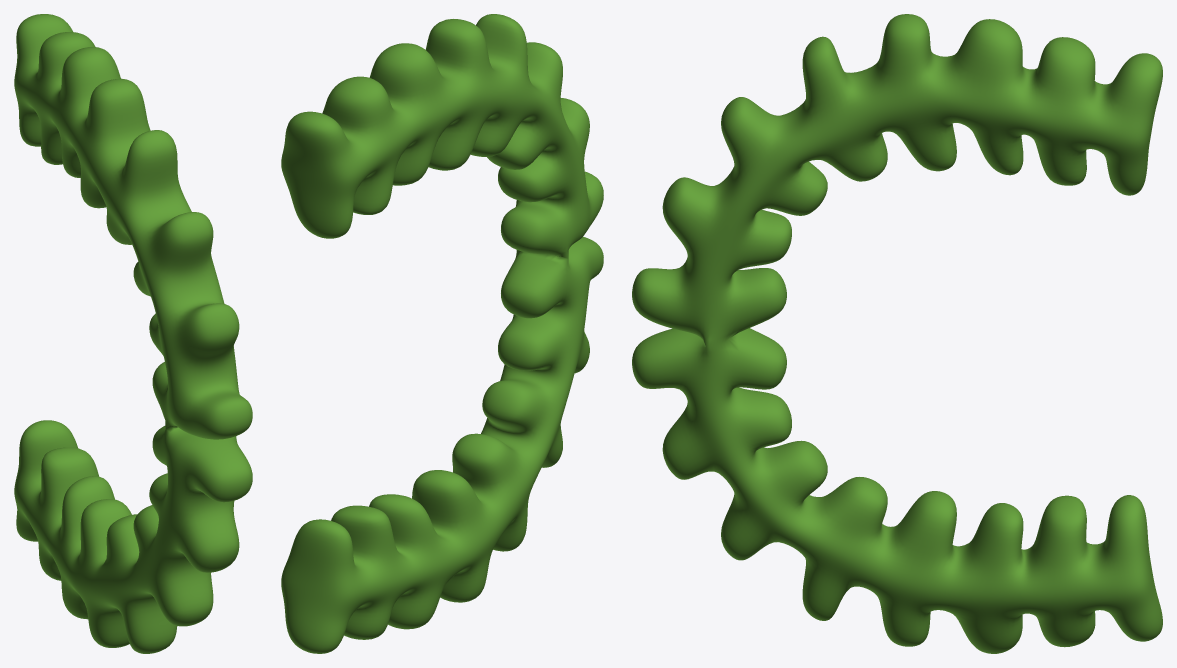
The model's file is wreath.fbx.
3 renders of one model, left to right at view 1: azimuth 30°, elevation 25°; view 2: azimuth 150°, elevation 25°; view 3: azimuth 270°, elevation 25°, orthographic. The views are drawn at different scales.
Visible parts, largest first — view 1: Cube.001; view 2: Cube.001; view 3: Cube.001.
Boxes of the visible parts, x1=… form: Cube.001: x1=14, y1=14, x2=252, y2=653; Cube.001: x1=281, y1=14, x2=603, y2=653; Cube.001: x1=632, y1=14, x2=1162, y2=653.
Size of the model in its own units: 28.99 by 150 by 115.
